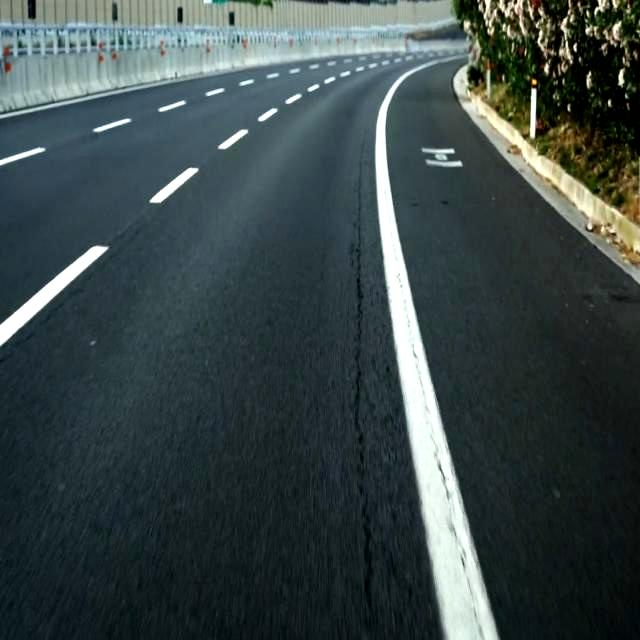lane: (389, 64, 640, 640), (375, 56, 500, 640), (1, 247, 108, 346), (150, 169, 199, 204), (0, 146, 46, 166), (218, 130, 249, 149), (92, 119, 131, 132), (158, 100, 186, 112), (258, 108, 278, 122)
road: (0, 59, 442, 639), (387, 62, 639, 639)
